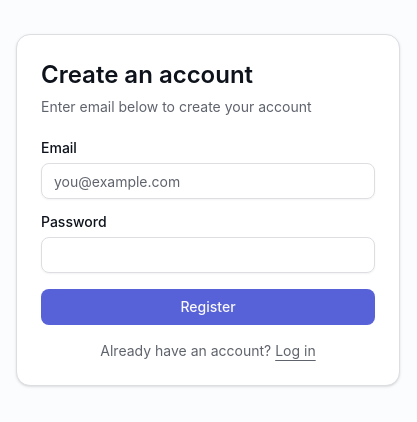
Test: RegisterPage › falls back to a generic message when registration rejects with a non-Error
Type "a@b.com" into the field with id "email" at (208, 181), box [41,163,375,199]
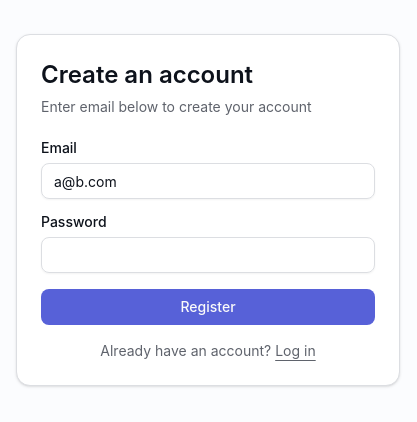
Type "pw123456" into the password field labelled "Password" at (208, 255), box [41,237,375,273]
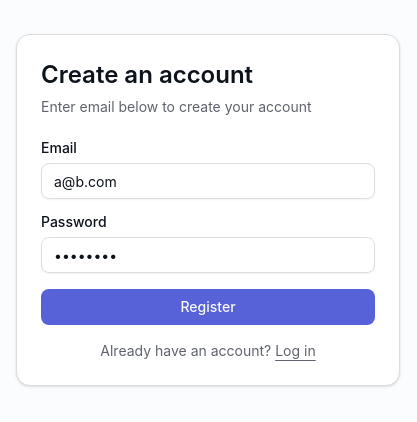
Submit the form, box [41,141,375,325]
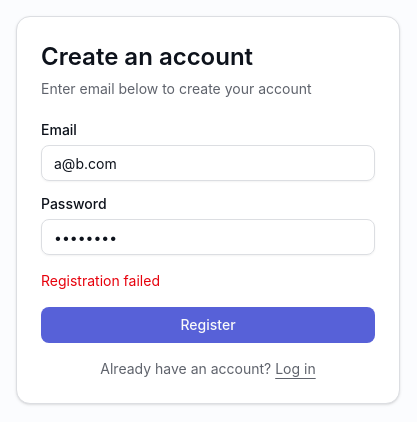
expect the text "Registration failed" is shown: met, box [41,272,160,289]
